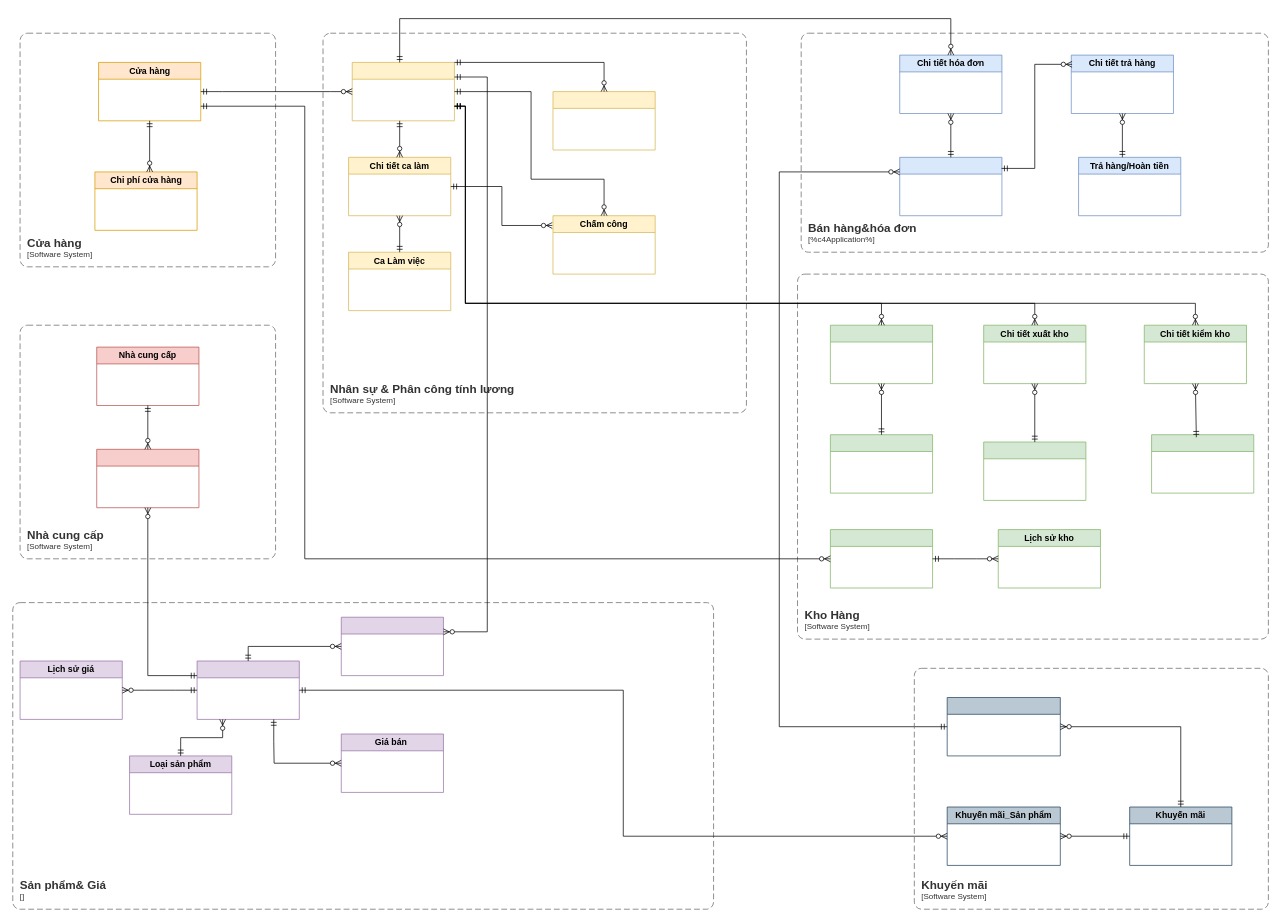
Image size: 1281x922. Some labels were removed from this diagram. Each missing label, with the centre of its shape:
Bảng lương: [603,120]
Chi Tiết Kho: [881,558]
Chi tiết nhập kho: [881,354]
Cung cấp: [147,478]
Hóa đơn: [950,186]
Khuyến mãi_Hóa đơn: [1003,726]
Kiểm kho: [1202,463]
Nhân viên: [402,91]
Nhập kho: [881,463]
Sản phẩm: [247,689]
Xuất kho: [1034,470]
Đề xuất giá: [392,646]
